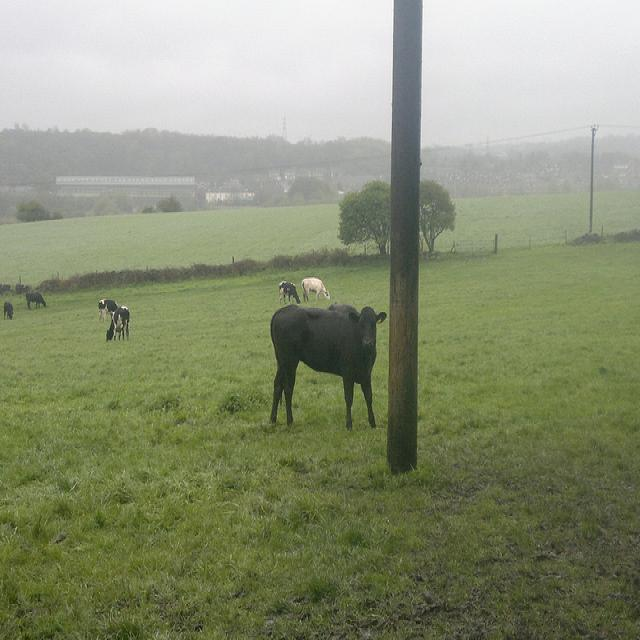cow: (268, 303, 387, 429), (104, 306, 129, 342), (300, 275, 330, 300), (277, 279, 300, 303), (24, 288, 45, 307), (101, 298, 117, 318), (2, 297, 13, 319), (97, 296, 105, 321)
